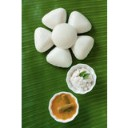idly: (41, 5, 66, 31), (52, 24, 76, 49), (48, 45, 74, 68), (32, 26, 55, 52), (69, 11, 92, 34), (72, 36, 94, 59)
